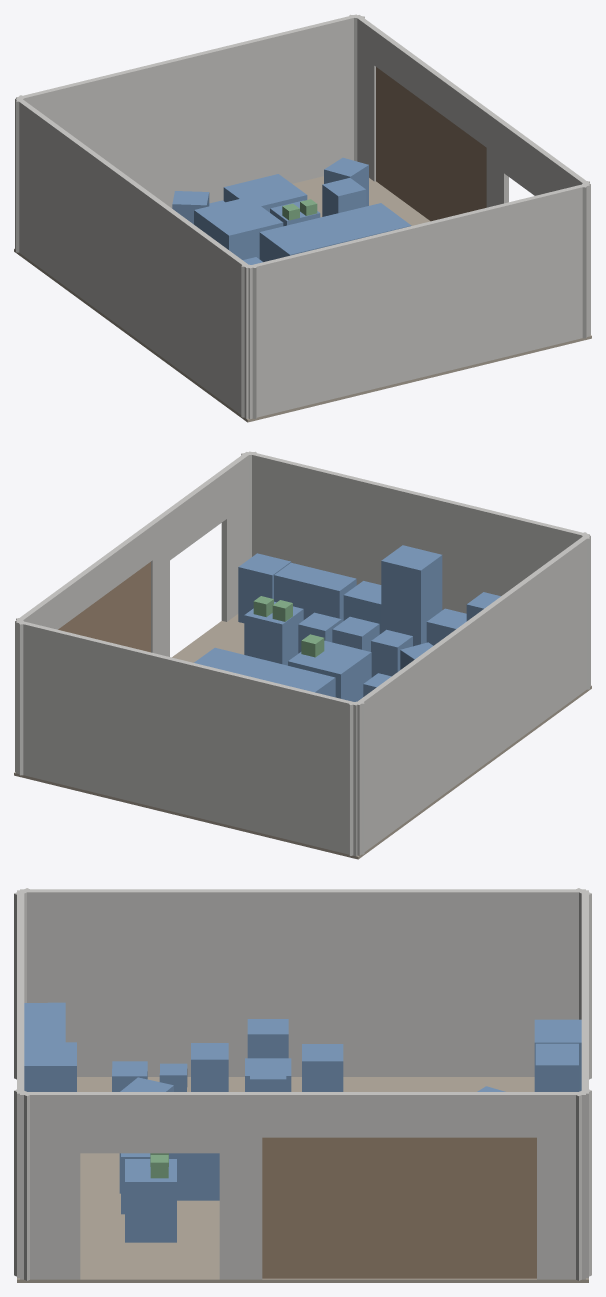
File: room_063.glb
3 views of the same model, one above another, from view 1: azimuth 30°, elevation 25°; view 2: azimuth 150°, elevation 25°; view 3: azimuth 270°, elevation 25° (orthographic). The views are drawn at different scales.
Parts seen in each view (by area): view 1: shell_wall_2_s0, shell_wall_6_s0, shell_wall_0_s0, shell_wall_4_door, shell_wall_4_s3, obj_019, shell_floor, obj_027, shell_wall_4_s4, shell_wall_4_s1, obj_033, shell_wall_4_s2 (+8 smaller); view 2: shell_wall_6_s0, shell_wall_0_s0, shell_wall_2_s0, obj_006, shell_wall_4_s3, shell_wall_4_door, shell_floor, shell_wall_4_s0, obj_000, shell_wall_4_s1, obj_019, obj_002 (+11 smaller); view 3: shell_wall_0_s0, shell_wall_4_door, shell_floor, shell_wall_4_s3, shell_wall_4_s0, shell_wall_4_s1, shell_wall_4_s2, shell_wall_4_s4, obj_013, obj_006, shell_wall_2_s0, shell_wall_6_s0 (+16 smaller).
Part boxes in pixels (x1,y1,x2,y2): shell_wall_2_s0: [247, 184, 589, 419]; shell_wall_6_s0: [16, 14, 357, 208]; shell_wall_0_s0: [15, 97, 250, 418]; shell_wall_4_door: [376, 67, 486, 221]; shell_wall_4_s3: [374, 29, 491, 147]; obj_019: [259, 203, 411, 261]; shell_floor: [14, 176, 591, 422]; obj_027: [194, 197, 283, 259]; shell_wall_4_s4: [355, 15, 379, 181]; shell_wall_4_s1: [504, 124, 565, 195]; obj_033: [223, 174, 307, 212]; shell_wall_4_s2: [486, 111, 508, 207]; shell_wall_6_s0: [16, 621, 358, 856]; shell_wall_0_s0: [355, 534, 590, 855]; shell_wall_2_s0: [247, 451, 589, 613]; obj_006: [381, 545, 442, 646]; shell_wall_4_s3: [35, 524, 152, 629]; shell_wall_4_door: [58, 562, 150, 652]; shell_floor: [14, 614, 591, 859]; shell_wall_4_s0: [221, 452, 250, 621]; obj_000: [274, 562, 356, 622]; shell_wall_4_s1: [165, 470, 226, 560]; obj_019: [194, 647, 335, 697]; obj_002: [288, 640, 371, 701]; shell_wall_0_s0: [20, 889, 585, 1076]; shell_wall_4_door: [262, 1137, 536, 1278]; shell_floor: [17, 1077, 588, 1282]; shell_wall_4_s3: [262, 1092, 536, 1137]; shell_wall_4_s0: [20, 1092, 80, 1279]; shell_wall_4_s1: [80, 1092, 219, 1153]; shell_wall_4_s2: [219, 1092, 262, 1279]; shell_wall_4_s4: [537, 1092, 585, 1279]; obj_013: [125, 1159, 176, 1242]; obj_006: [24, 1042, 76, 1091]; shell_wall_2_s0: [17, 890, 24, 1278]; shell_wall_6_s0: [581, 890, 588, 1278].
Size of the model in its own units: 6.77 by 2.85 by 7.94.
